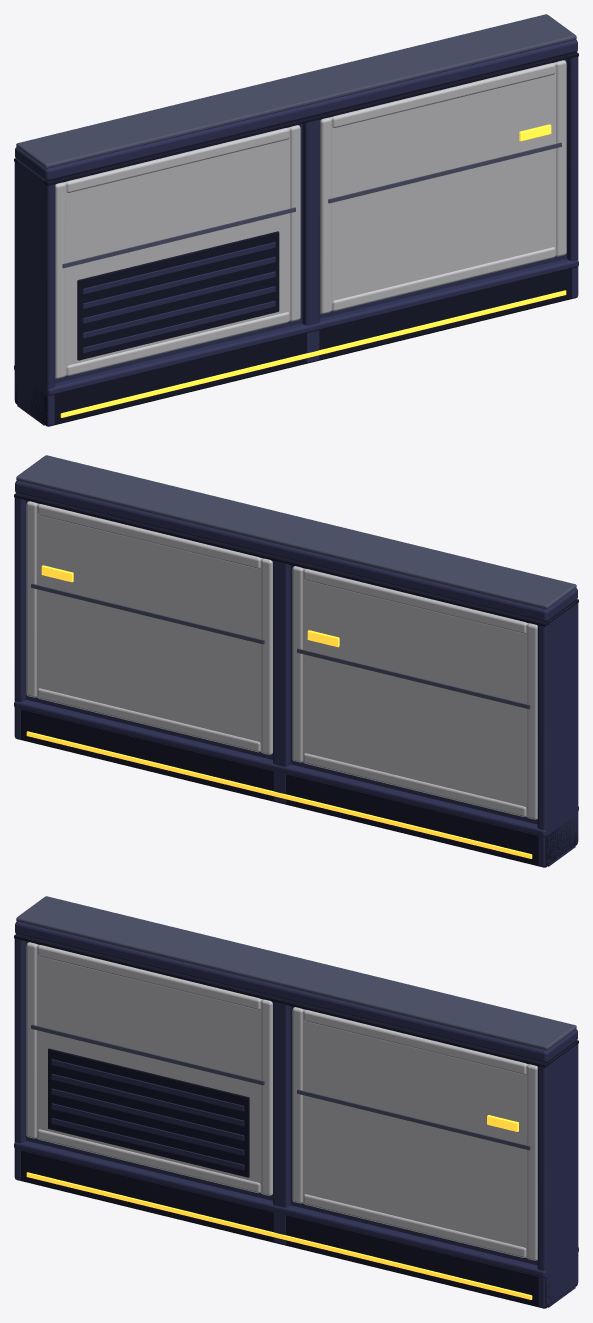
File: int.halfwall.l2.4.glb
The picture shows the model from 3 angles, top to bottom: view 1: azimuth 30°, elevation 25°; view 2: azimuth 150°, elevation 25°; view 3: azimuth 330°, elevation 25°; orthographic projection.
Visible parts, largest first — view 1: int.halfwall.l2.4; view 2: int.halfwall.l2.4; view 3: int.halfwall.l2.4.
Boxes of the visible parts, x1,y1,x2,y2 form: int.halfwall.l2.4: (14, 14, 578, 426); int.halfwall.l2.4: (14, 455, 578, 867); int.halfwall.l2.4: (14, 896, 578, 1308).
Size of the model in its own units: 2.41 by 1.13 by 0.278.
